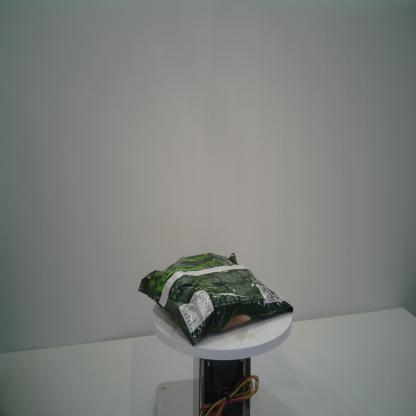Instant Noodles: (138, 249, 294, 346)
